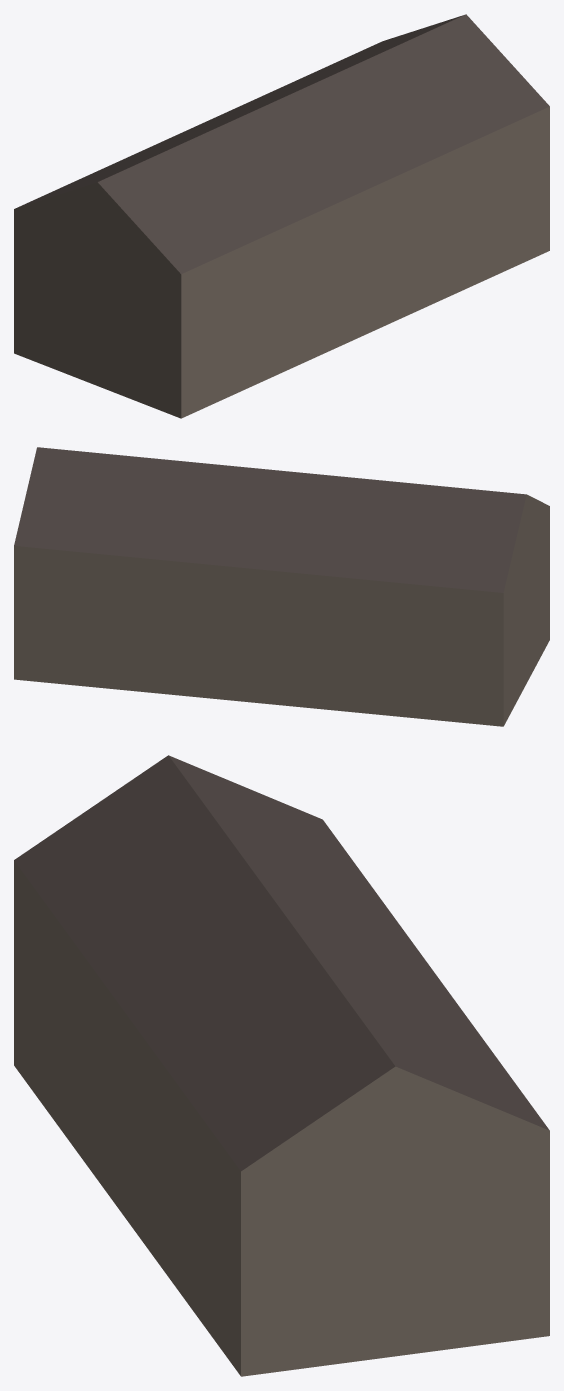
3 renders of one model, top to bottom at view 1: azimuth 30°, elevation 25°; view 2: azimuth 150°, elevation 25°; view 3: azimuth 270°, elevation 25°, orthographic. The views are drawn at different scales.
Visible parts, largest first — view 1: HP-w859078888; view 2: HP-w859078888; view 3: HP-w859078888.
Part boxes in pixels (box(x1,y1,x2,y2)): HP-w859078888: box(14, 14, 549, 418); HP-w859078888: box(14, 447, 549, 726); HP-w859078888: box(14, 755, 549, 1376).
Size of the model in its own units: 33.09 by 12.71 by 21.3.
